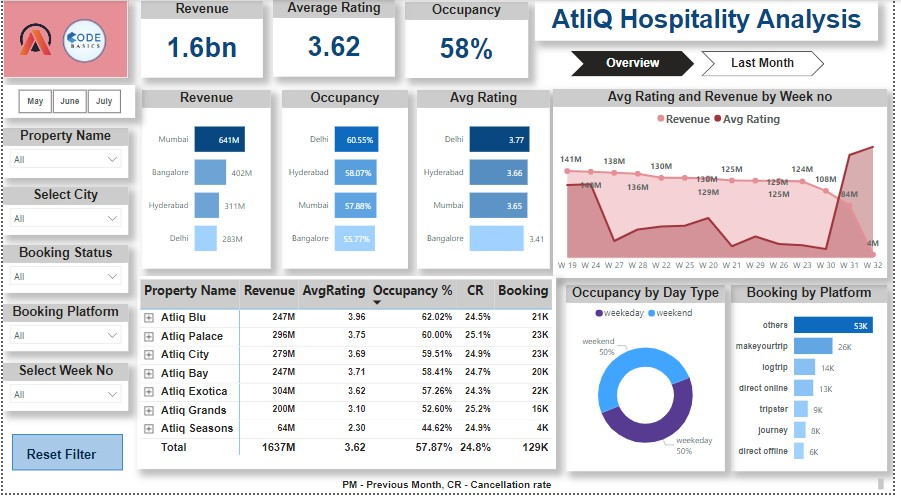

The page's visual inventory and layout, read from the dashboard file:
{"tool":"powerbi","page":{"name":"Overview","canvas":[1300,720],"ordinal":0},"visuals":[{"type":"card","title":"Revenue","fields":{"Values":["metrics_list.Revenue"]},"box":[201.6,1.4,178.2,112.1],"z":0},{"type":"barChart","title":"Booking by Platform","fields":{"Category":["fact_bookings.booking_platform"],"Y":["CountNonNull(fact_bookings.booking_status)"]},"box":[1063.2,416.2,227.8,271.6],"z":1000},{"type":"clusteredBarChart","title":"Occupancy","fields":{"Category":["dim_hotels.city"],"Y":["metrics_list.Total Occupancy %"]},"box":[407.5,131.4,184,261.4],"z":2000},{"type":"clusteredBarChart","title":"Avg Rating","fields":{"Category":["dim_hotels.city"],"Y":["metrics_list.Avg_Rating"]},"box":[604.6,131.4,194.2,261.4],"z":3000},{"type":"clusteredBarChart","title":"Revenue","fields":{"Category":["dim_hotels.city"],"Y":["metrics_list.Revenue"]},"box":[202.5,131.4,188.4,261.4],"z":4000},{"type":"card","title":"Occupancy","fields":{"Values":["metrics_list.Total Occupancy %"]},"box":[586.8,2.9,179.6,110.7],"z":5000},{"type":"donutChart","title":"Occupancy by Day Type","fields":{"Category":["dim_date.day_type"],"Y":["metrics_list.Total Occupancy %"]},"box":[822.2,416.2,232.2,271.6],"z":6000},{"type":"areaChart","title":"Avg Rating and Revenue by Week no","fields":{"Category":["dim_date.week no"],"Y2":["metrics_list.Avg_Rating"],"Y":["metrics_list.Revenue"]},"box":[803.2,130,487.8,276],"z":7000},{"type":"pivotTable","fields":{"Rows":["dim_hotels.property_name","dim_hotels.city"],"Values":["metrics_list.Revenue","metrics_list.Avg_Rating","metrics_list.Total Occupancy %","All Measure .Cancellation rate","All Measure .Total booking"]},"box":[195.7,403.1,611.9,281.9],"z":8000},{"type":"slicer","title":"Property Name","fields":{"Values":["dim_hotels.property_name"]},"box":[0,186.4,182.5,73.3],"z":9000},{"type":"slicer","title":"Select City","fields":{"Values":["dim_hotels.city"]},"box":[0,272.6,182.5,70.4],"z":10000},{"type":"slicer","title":"Booking Status","fields":{"Values":["fact_bookings.booking_status"]},"box":[0,357.4,182.5,70.4],"z":11000},{"type":"slicer","title":"Select Week No","fields":{"Values":["dim_date.week no"]},"box":[0,530.1,182.6,70.1],"z":12000},{"type":"slicer","title":"Booking Platform","fields":{"Values":["fact_bookings.booking_platform"]},"box":[0,443.6,182.5,69],"z":13000},{"type":"card","title":"Average Rating","fields":{"Values":["metrics_list.Avg_Rating"]},"box":[393.8,0,178.2,112.1],"z":14000},{"type":"shape","box":[0,0,182.5,113.5],"z":15000},{"type":"image","title":"atliq","box":[6.1,21.1,77.6,73.8],"z":16000},{"type":"image","title":"codebasics","box":[76.2,21.1,85.2,77.6],"z":17000},{"type":"pageNavigator","box":[829.5,74.5,371,38],"z":18000},{"type":"textbox","box":[29.2,647.9,136.5,38.8],"z":19000},{"type":"shape","box":[13.4,633.5,162.4,53.2],"z":20000},{"type":"slicer","title":"Select Month","fields":{"Values":["dim_date.Month"]},"box":[0,124.1,193,48.2],"z":21000},{"type":"textbox","box":[777,1.5,500.9,58.4],"z":22000},{"type":"textbox","box":[13.1,693.7,1277.9,26],"z":22001}]}

Visuals, with their boxes in screenshot pixels (x1, y1, x2, y2), scaled from the page's 1300x720 canvas onto the 901x501 screenshot:
"Revenue" card: bbox=(140, 1, 263, 79)
"Booking by Platform" barChart: bbox=(737, 290, 895, 479)
"Occupancy" clusteredBarChart: bbox=(282, 91, 410, 273)
"Avg Rating" clusteredBarChart: bbox=(419, 91, 554, 273)
"Revenue" clusteredBarChart: bbox=(140, 91, 271, 273)
"Occupancy" card: bbox=(407, 2, 531, 79)
"Occupancy by Day Type" donutChart: bbox=(570, 290, 731, 479)
"Avg Rating and Revenue by Week no" areaChart: bbox=(557, 90, 895, 283)
pivotTable - dim_hotels.property_name x dim_hotels.city: bbox=(136, 280, 560, 477)
"Property Name" slicer: bbox=(0, 130, 126, 181)
"Select City" slicer: bbox=(0, 190, 126, 239)
"Booking Status" slicer: bbox=(0, 249, 126, 298)
"Select Week No" slicer: bbox=(0, 369, 127, 418)
"Booking Platform" slicer: bbox=(0, 309, 126, 357)
"Average Rating" card: bbox=(273, 0, 396, 78)
shape: bbox=(0, 0, 126, 79)
"atliq" image: bbox=(4, 15, 58, 66)
"codebasics" image: bbox=(53, 15, 112, 69)
pageNavigator: bbox=(575, 52, 832, 78)
textbox: bbox=(20, 451, 115, 478)
shape: bbox=(9, 441, 122, 478)
"Select Month" slicer: bbox=(0, 86, 134, 120)
textbox: bbox=(539, 1, 886, 42)
textbox: bbox=(9, 483, 895, 500)
